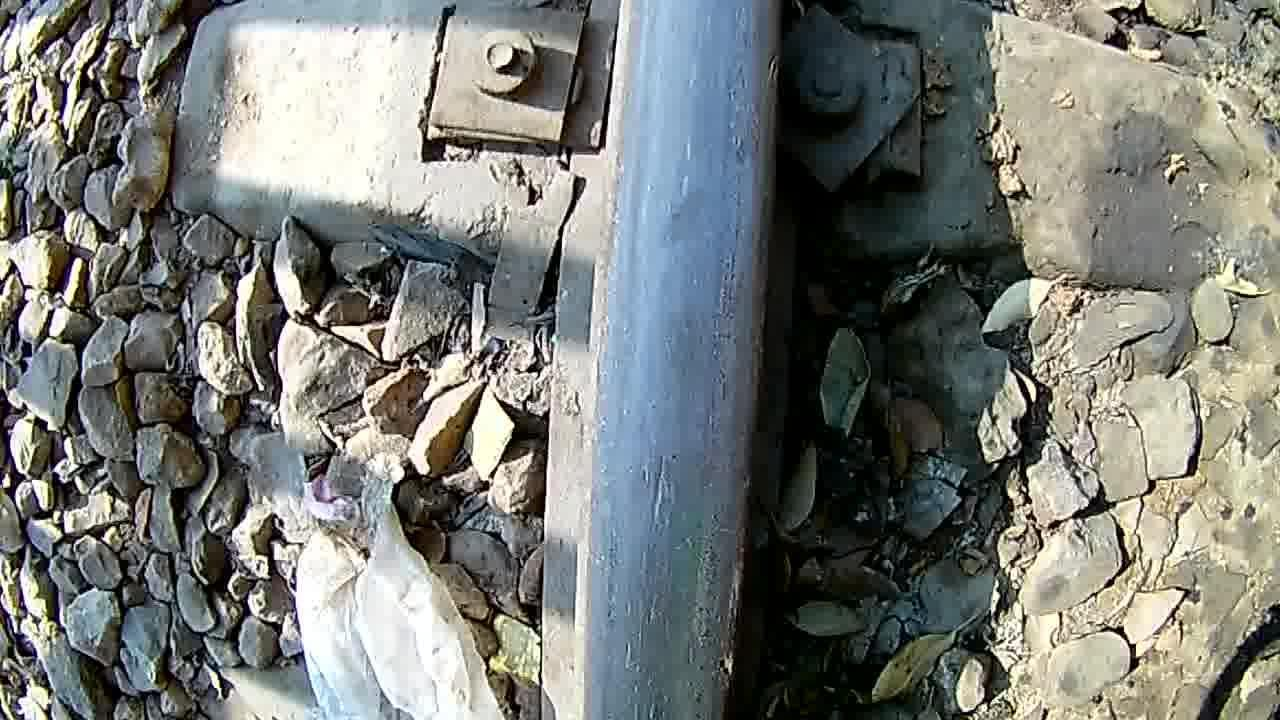crack: (586, 0, 780, 719)
